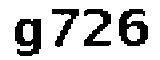2: (81, 7, 113, 51)
6: (116, 8, 152, 48)
7: (47, 5, 82, 52)
g: (13, 15, 44, 60)
